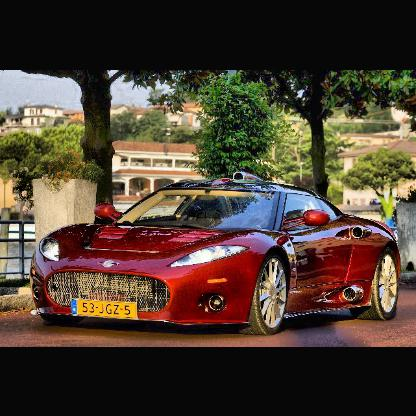Spyker C8 Coupe 2009: (28, 171, 403, 340)
